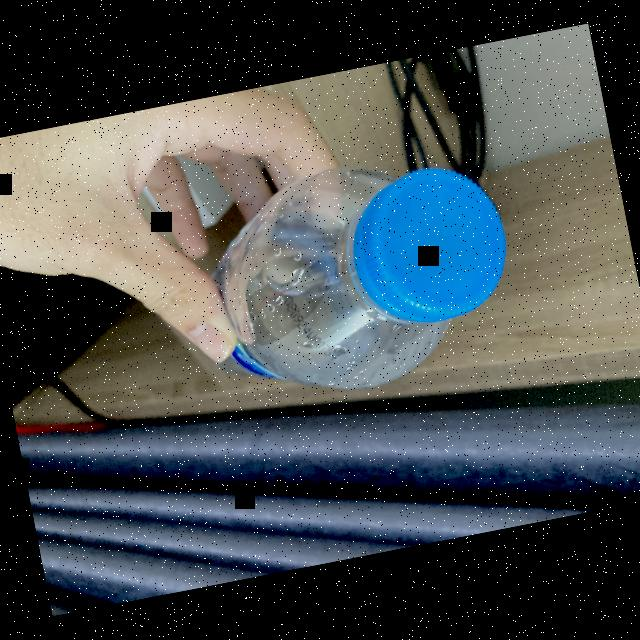plastic_bottle: (176, 129, 536, 422)
plastic_bottle_cap: (332, 154, 522, 338)
